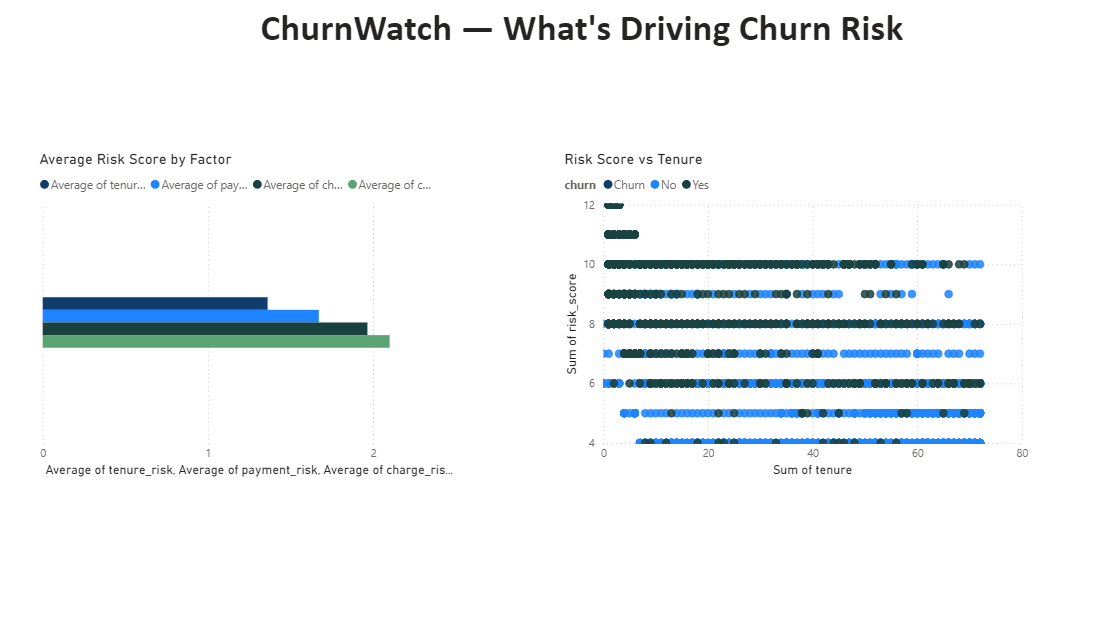

The dashboard page shown, as its layout file describes it:
{"tool":"powerbi","page":{"name":"Risk Drivers","canvas":[1280,720],"ordinal":2},"visuals":[{"type":"clusteredBarChart","title":"Average Risk Score by Factor","fields":{"Y":["Avg(customer_risk.tenure_risk)","Avg(customer_risk.payment_risk)","Avg(customer_risk.charge_risk)","Avg(customer_risk.contract_risk)"]},"box":[40,171.4,490,378.6],"z":0},{"type":"scatterChart","title":"Risk Score vs Tenure","fields":{"X":["Sum(customer_risk.tenure)"],"Y":["Sum(customer_risk.risk_score)"],"Category":["final_customer_risk.customer_id"],"Series":["final_customer_risk.churn"]},"box":[640,171.4,540,378.6],"z":1000},{"type":"textbox","box":[285.7,0,758.6,97.1],"z":1001}]}

Visuals, with their boxes in screenshot pixels (x1, y1, x2, y2), scaled from the page's 1280x720 canvas onto the 1116x626 screenshot:
"Average Risk Score by Factor" clusteredBarChart: 35 149 462 478
"Risk Score vs Tenure" scatterChart: 558 149 1029 478
textbox: 249 0 910 84
